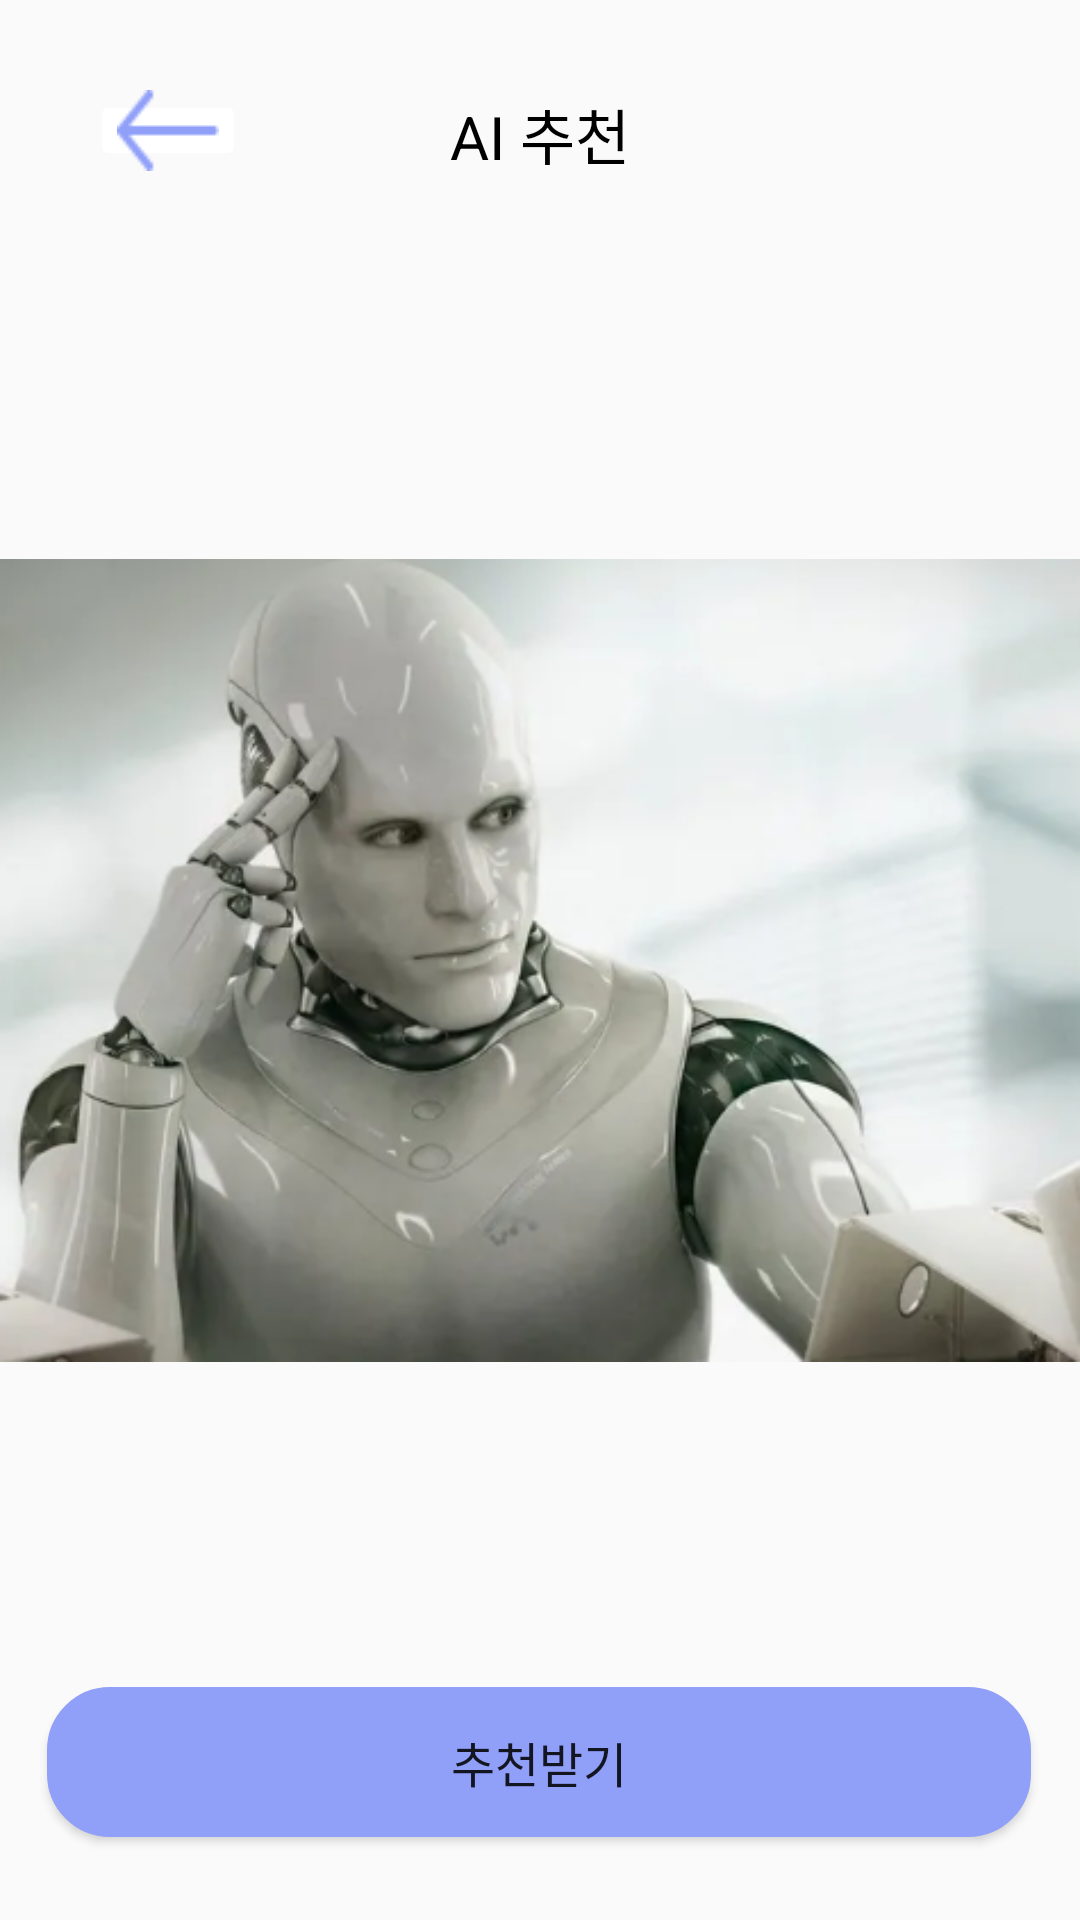

Point at icon controls on the screen. Image size 1080 × 1920, points as (x,y).
arrow left: (168,130)
